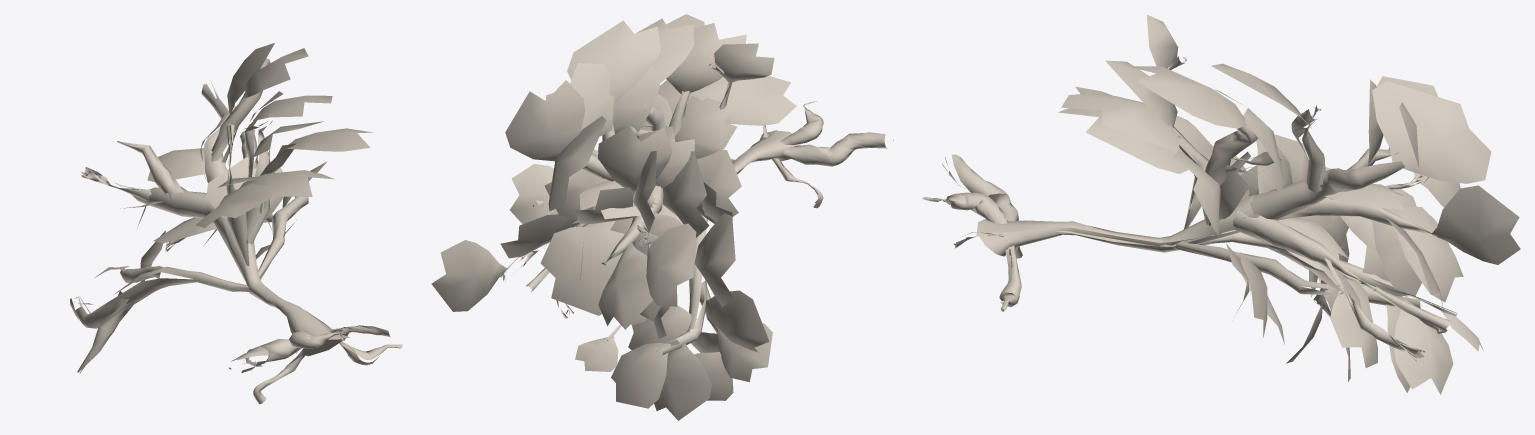
Rendered from tree_2_cand05.glb.
3 renders of one model, left to right at view 1: azimuth 30°, elevation 25°; view 2: azimuth 150°, elevation 25°; view 3: azimuth 270°, elevation 25°, orthographic. The views are drawn at different scales.
Parts seen in each view (by area): view 1: world; view 2: world; view 3: world.
Part boxes in pixels (left/top/right/bottom): world: left=70, top=43, right=402, bottom=404; world: left=431, top=14, right=893, bottom=420; world: left=922, top=14, right=1520, bottom=394.
Size of the model in its own units: 1.33 by 1.41 by 1.91.
